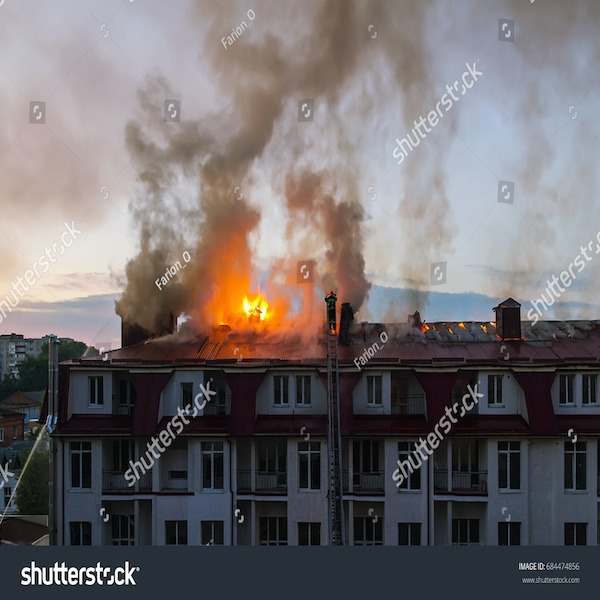fire: (202, 215, 267, 334), (207, 258, 300, 335)
